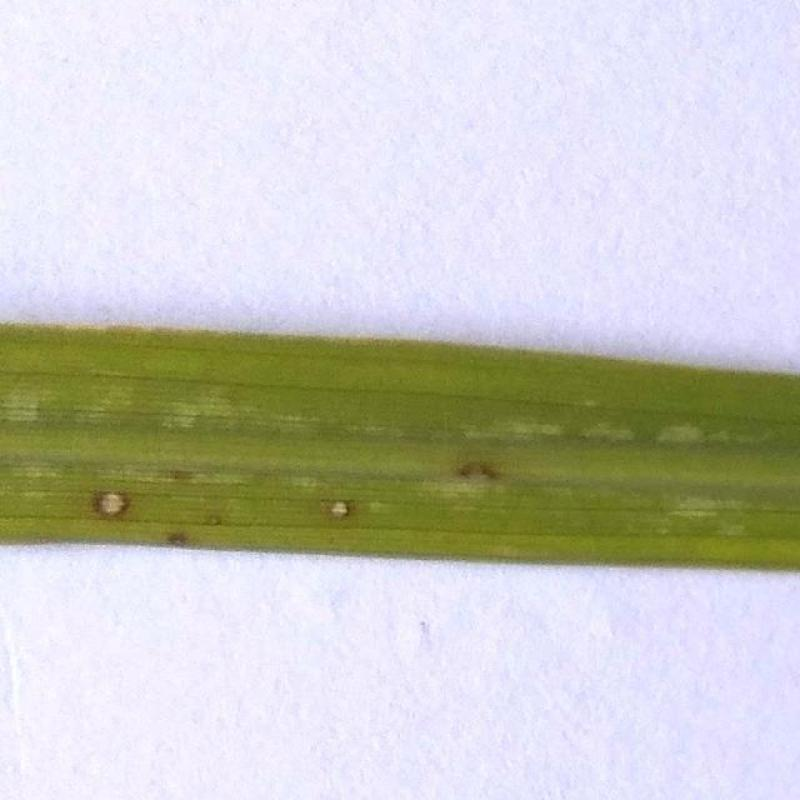Leaf_Blast: (36, 430, 239, 548), (414, 426, 555, 528)
